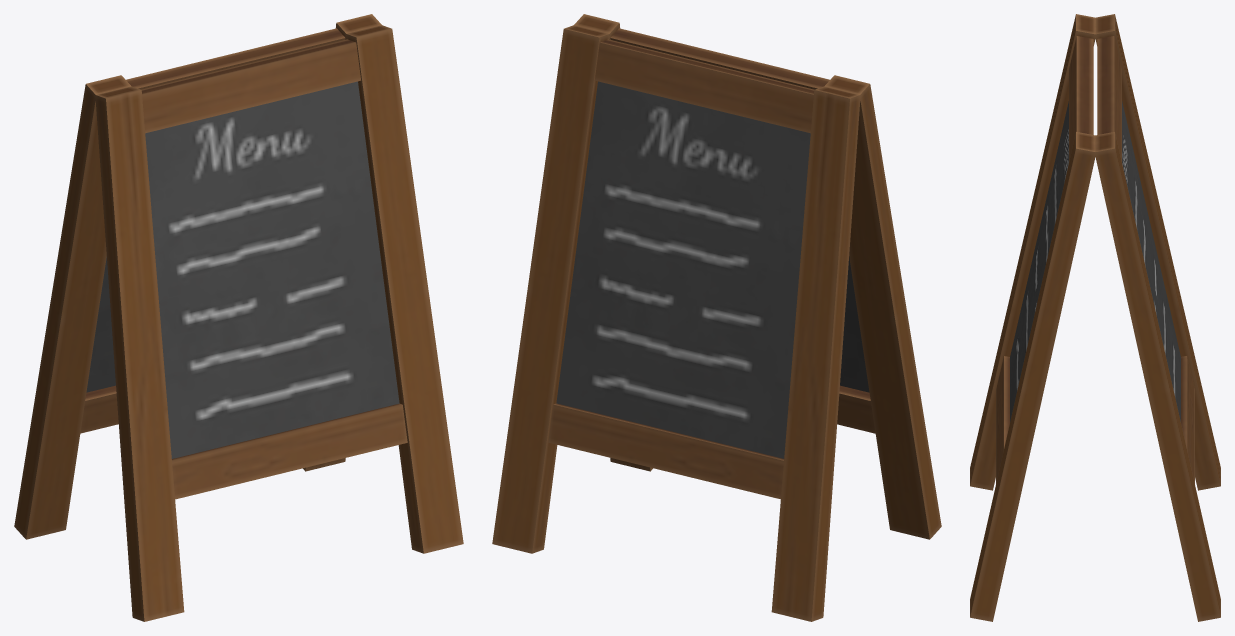
File: SM_Props_Menu_01.glb
3 renders of one model, left to right at view 1: azimuth 30°, elevation 25°; view 2: azimuth 150°, elevation 25°; view 3: azimuth 270°, elevation 25°, orthographic. The views are drawn at different scales.
Parts seen in each view (by area): view 1: SM_Props_Menu_01; view 2: SM_Props_Menu_01; view 3: SM_Props_Menu_01.
Boxes of the visible parts, left/top/right/bottom form: SM_Props_Menu_01: left=14, top=14, right=463, bottom=621; SM_Props_Menu_01: left=492, top=14, right=941, bottom=621; SM_Props_Menu_01: left=970, top=14, right=1220, bottom=621.
Size of the model in its own units: 0.5645 by 0.8167 by 0.3987.
Materials: 1 (1 with a texture image).
